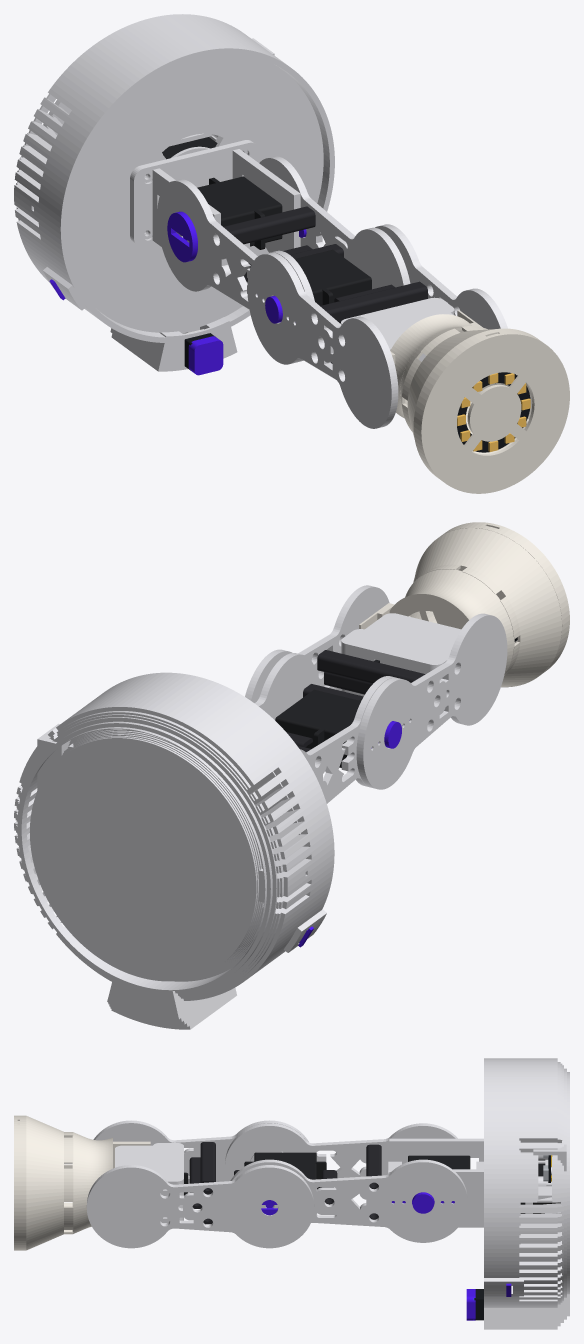
The model's file is hotaru-all.glb.
The picture shows the model from 3 angles, top to bottom: view 1: azimuth 30°, elevation 25°; view 2: azimuth 150°, elevation 25°; view 3: azimuth 270°, elevation 25°; orthographic projection. The views are drawn at different scales.
Parts seen in each view (by area): view 1: v2-disc, v2-tub, v2-conecap, v2-link2-in, v2-tower, v2-link1-out, shade, v2-link1-in, v2-link2-out, sh-mg996r-body, el-mg996r-body, v2-link1-spacers (+7 smaller); view 2: v2-tub, shade, v2-link2-in, v2-head, v2-link2-out, v2-link1-out, el-mg996r-body, v2-link2-spacers, v2-link1-in, v2-conecap; view 3: v2-tub, v2-link2-out, shade, v2-link1-in, v2-link1-out, v2-tower, v2-link2-in, v2-head, v2-link2-spacers, el-mg996r-body, v2-link1-spacers, sh-mg996r-body (+2 smaller).
Part boxes in pixels (x1,y1,x2,y2): v2-disc: (66, 54, 323, 332); v2-tub: (14, 14, 334, 371); v2-conecap: (419, 332, 569, 493); v2-link2-in: (247, 252, 398, 428); v2-tower: (130, 140, 300, 251); v2-link1-out: (157, 179, 314, 362); shade: (390, 310, 539, 478); v2-link1-in: (259, 156, 410, 289); v2-link2-out: (375, 224, 507, 329); sh-mg996r-body: (197, 176, 282, 246); el-mg996r-body: (295, 249, 371, 305); v2-link1-spacers: (223, 206, 315, 282); v2-tub: (14, 672, 334, 1029); shade: (359, 524, 567, 687); v2-link2-in: (356, 613, 507, 789); v2-head: (341, 613, 461, 696); v2-link2-out: (245, 585, 389, 702); v2-link1-out: (300, 676, 395, 803); el-mg996r-body: (275, 689, 360, 767); v2-link2-spacers: (317, 650, 425, 694); v2-link1-in: (254, 653, 317, 720); v2-conecap: (422, 522, 569, 669); v2-tub: (484, 1058, 569, 1329); v2-link2-out: (86, 1165, 314, 1248); shade: (17, 1115, 150, 1250); v2-link1-in: (230, 1159, 467, 1242); v2-link1-out: (225, 1123, 457, 1181); v2-tower: (388, 1138, 483, 1227); v2-link2-in: (93, 1120, 308, 1183); v2-head: (115, 1143, 183, 1223); v2-link2-spacers: (189, 1142, 215, 1224); el-mg996r-body: (254, 1152, 316, 1179); v2-link1-spacers: (366, 1144, 381, 1219); sh-mg996r-body: (408, 1155, 470, 1169).
Size of the model in its own units: 162 by 178 by 362.
